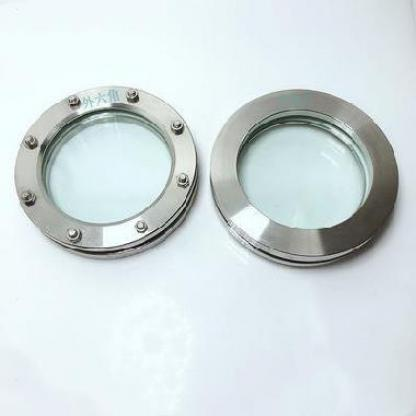FOD: (12, 76, 201, 260)
